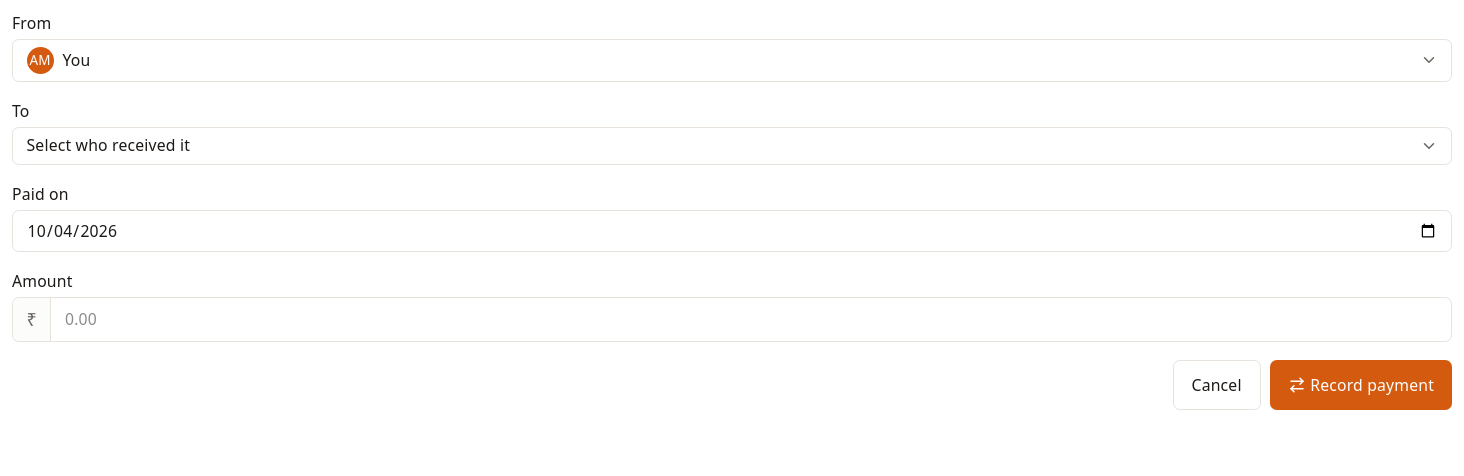
Test: RecordPaymentForm › requires a paid date and amount
The width and height of the screenshot is (1464, 476).
Click the button with aria-label "To" at (108, 145), box x1=12 y1=126 x2=1452 y2=164
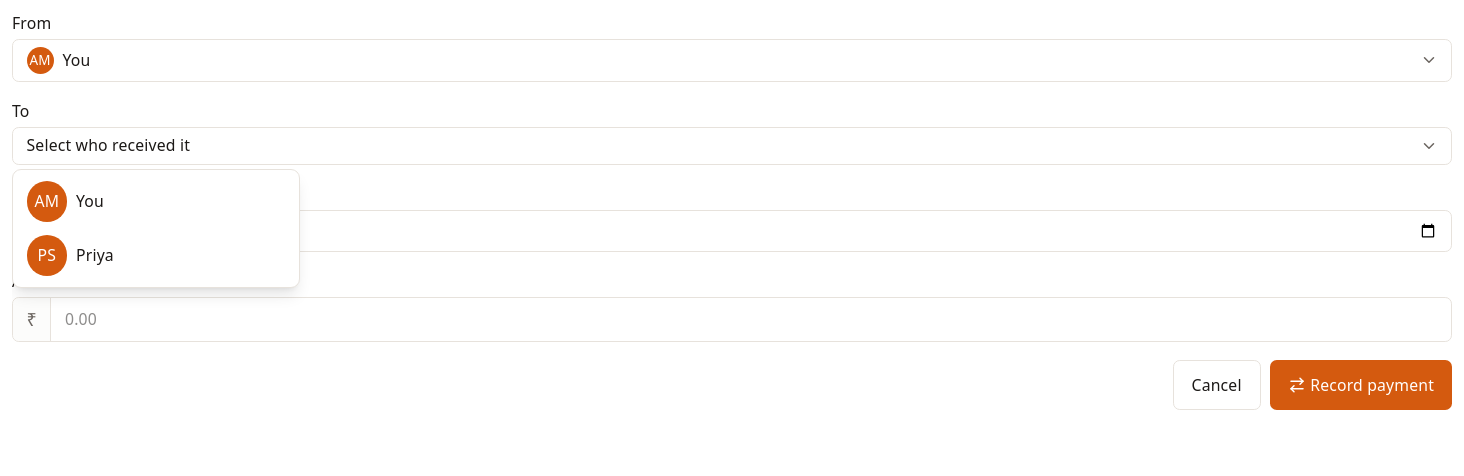
Click the menu item with aria-label "priya sharma" at (47, 256), box x1=26 y1=235 x2=114 y2=276
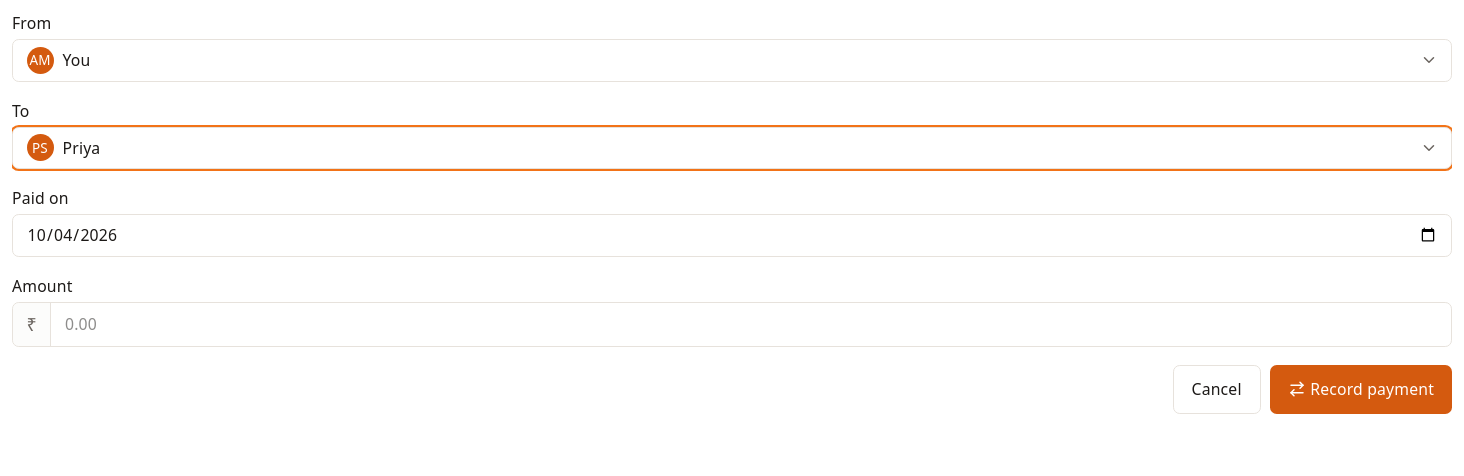
Clear the date field labelled "Paid on" at (732, 235), box x1=12 y1=214 x2=1452 y2=256
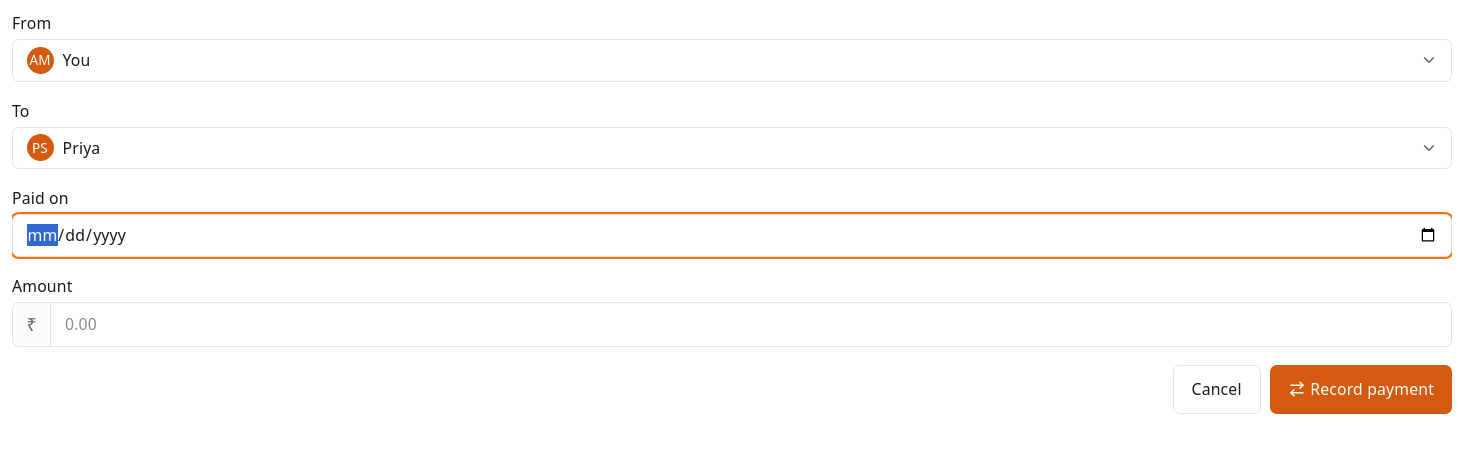
Click the button "Record payment" at (1361, 389), box x1=1270 y1=364 x2=1452 y2=414
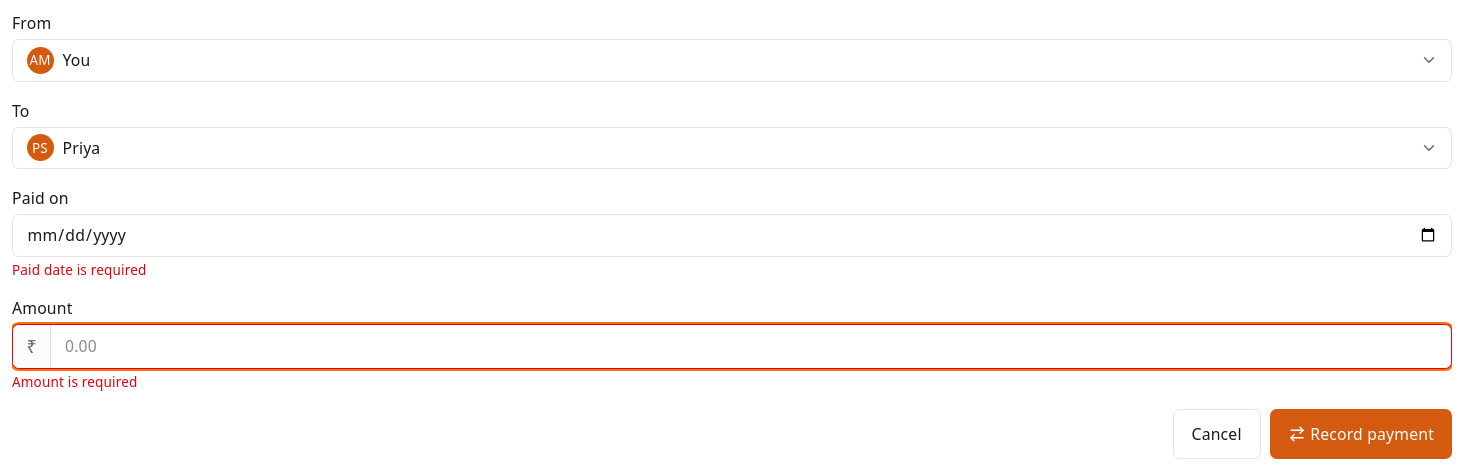
Expected: the text "Paid date is required" is shown, x1=12 y1=261 x2=146 y2=279
Expected: the text "Amount is required" is shown, x1=12 y1=374 x2=138 y2=392
